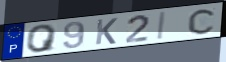2: (125, 13, 152, 44)
9: (61, 21, 85, 50)
C: (187, 7, 219, 36)
I: (156, 10, 168, 41)
K: (94, 17, 119, 46)
Q: (25, 23, 59, 54)
